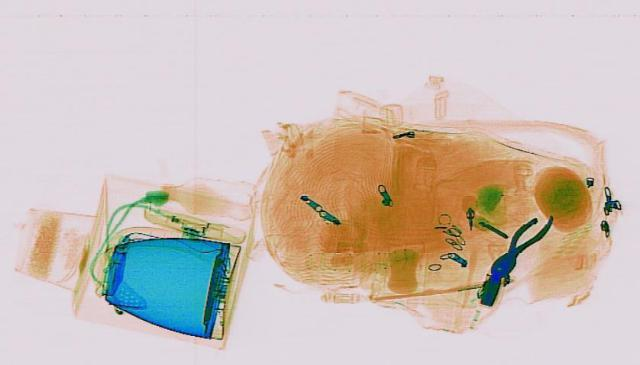Pliers: (483, 210, 557, 279)
